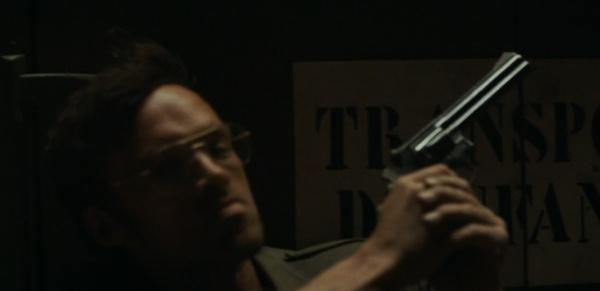Gun: (381, 48, 533, 200)
